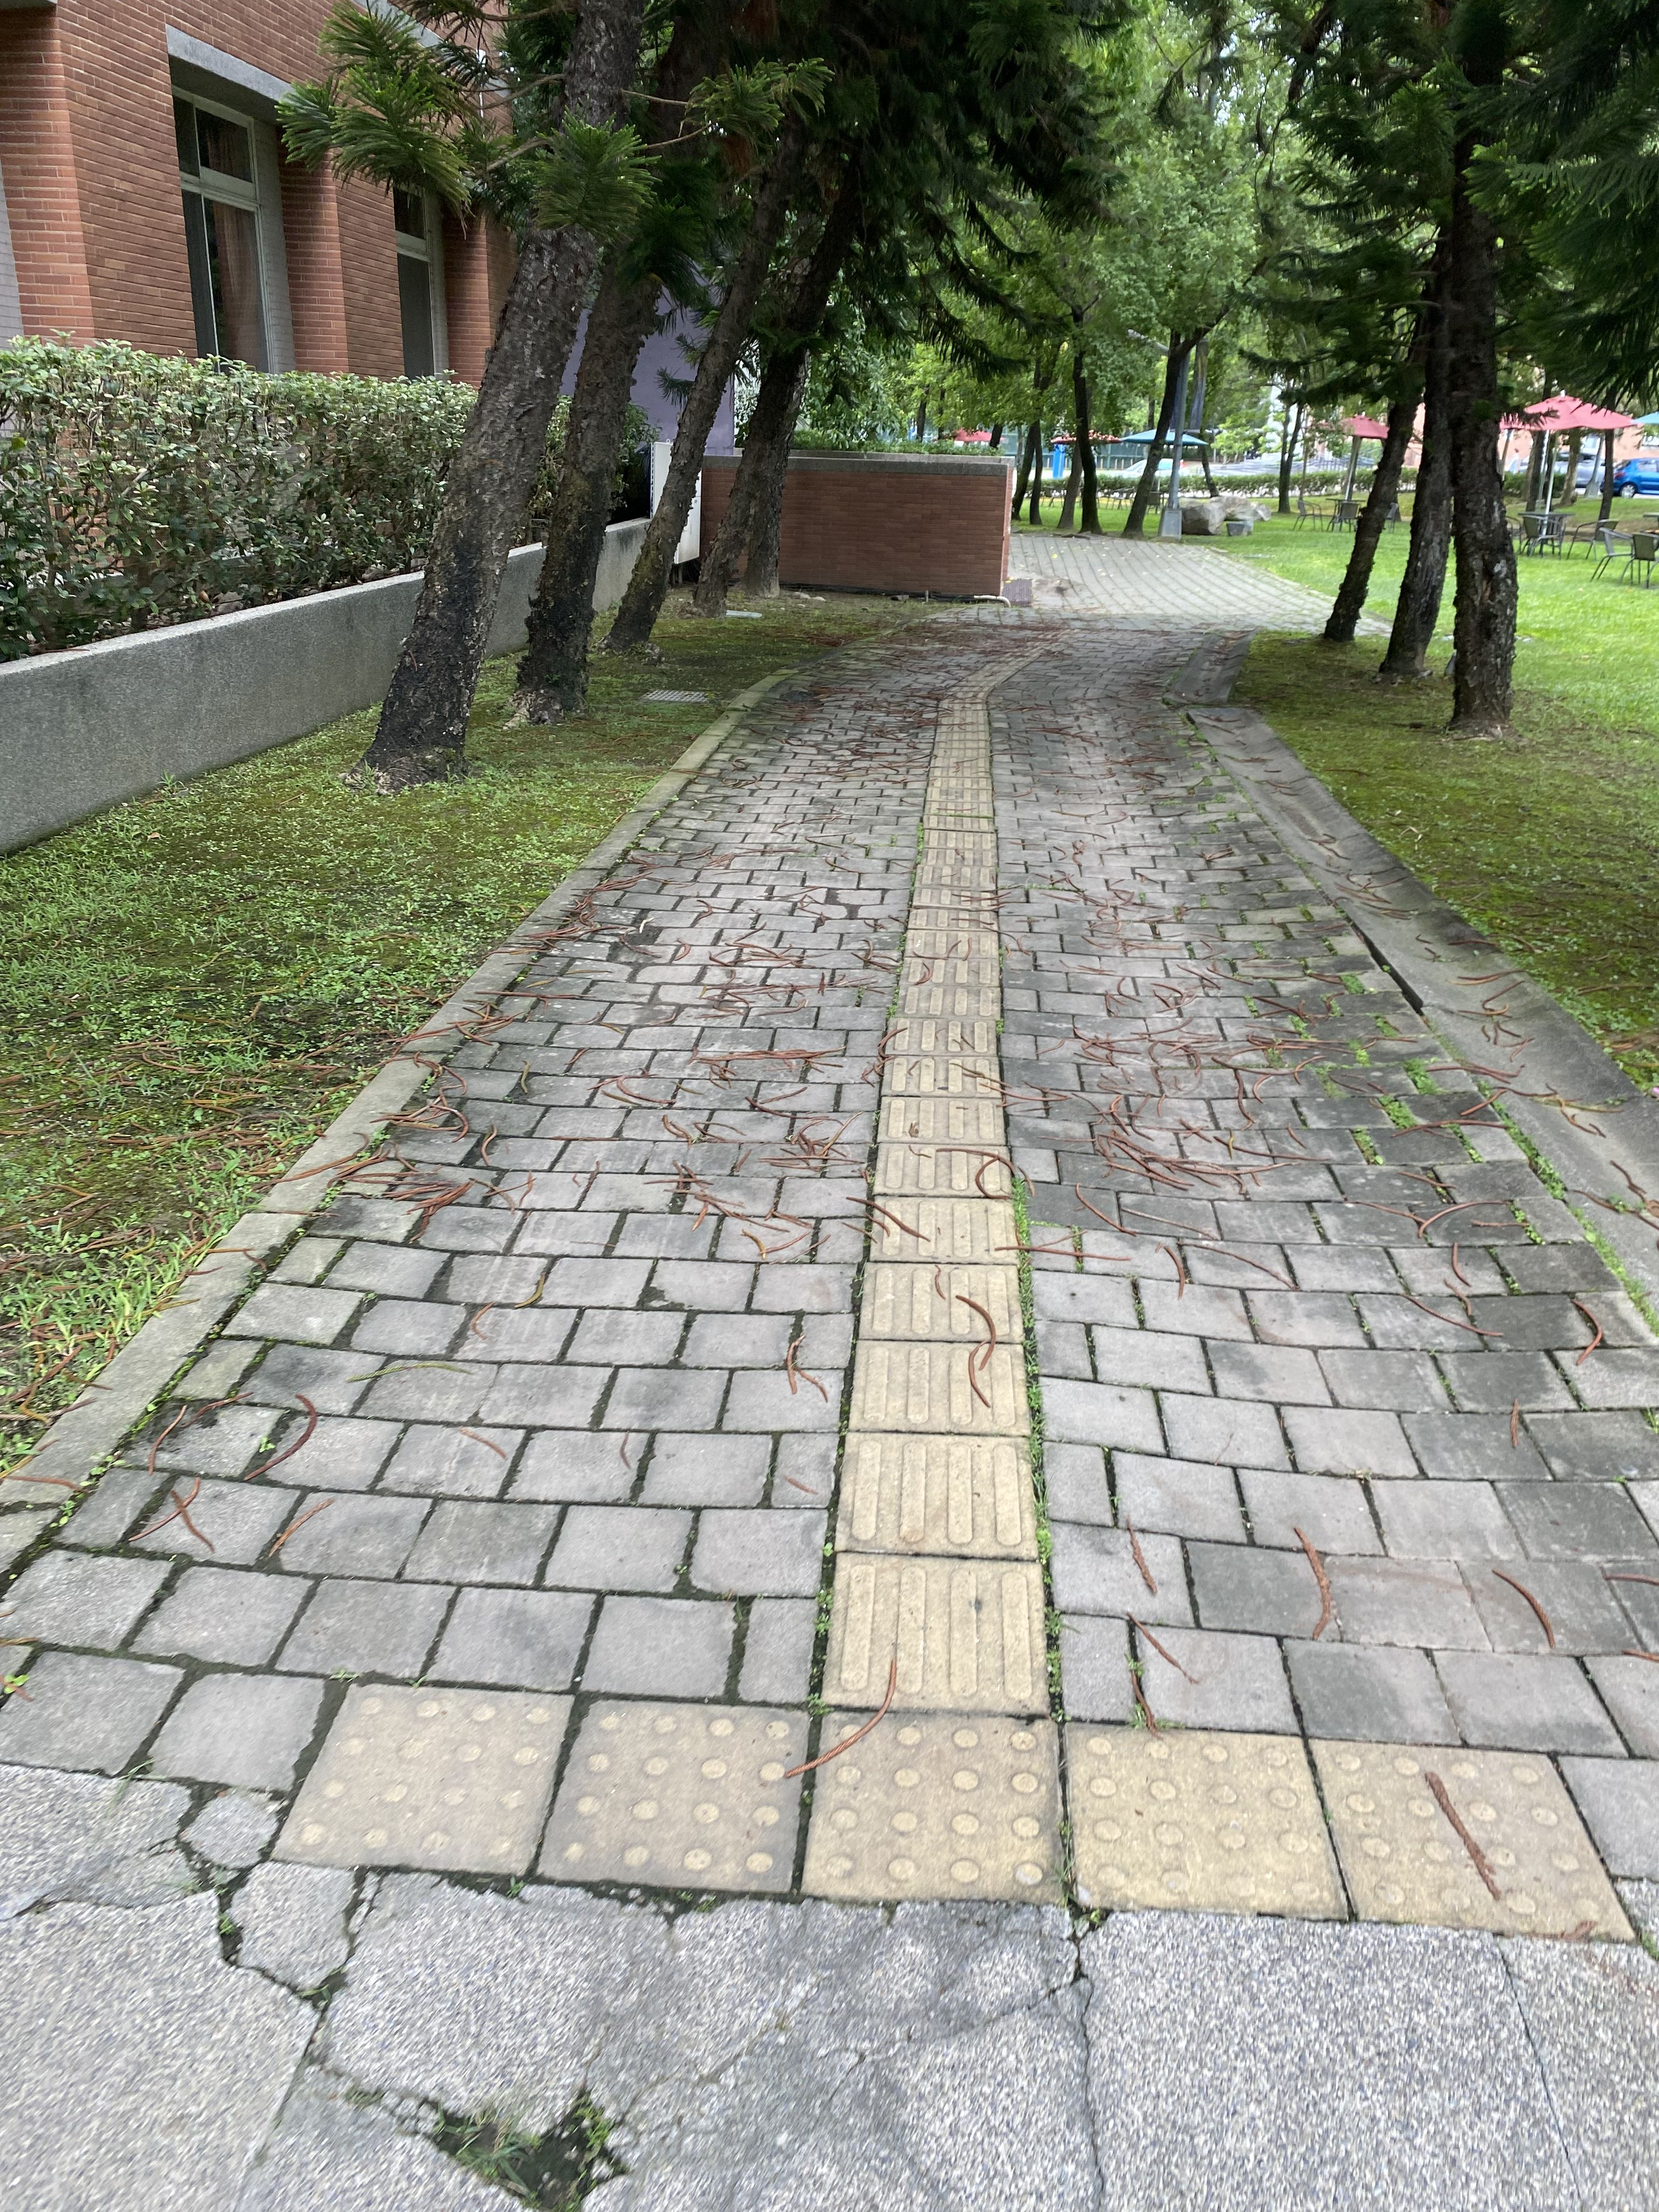sidewalk: (0, 430, 1659, 2207)
